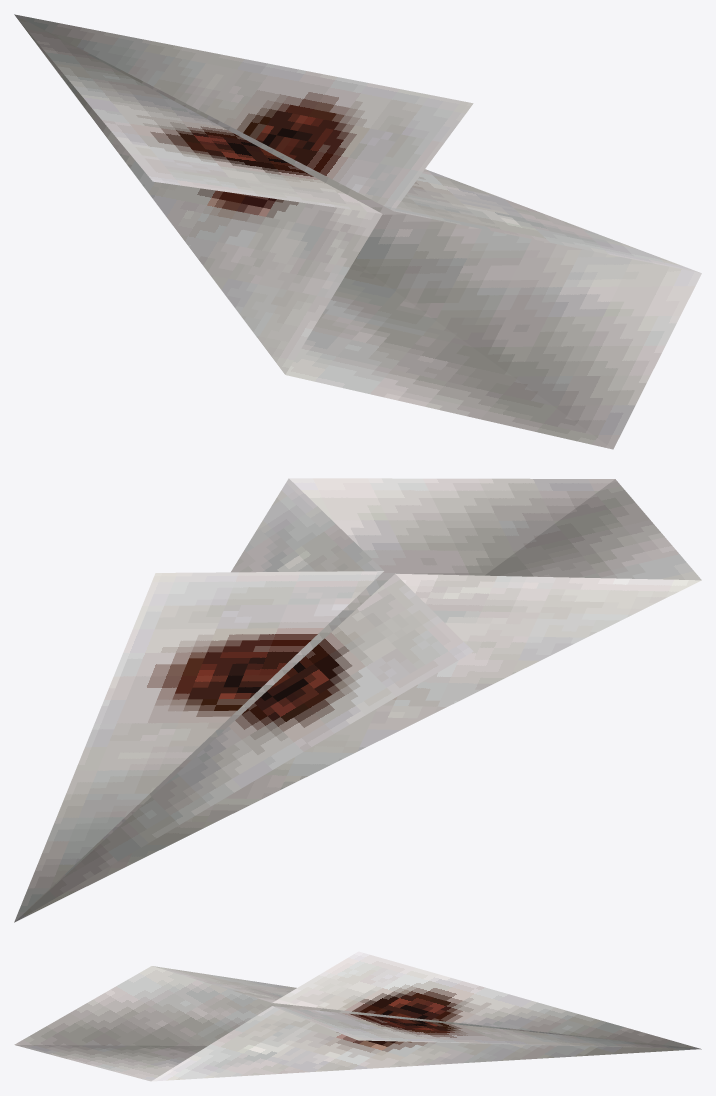
The model's file is stst150.dae.
3 views of the same model, one above another, from view 1: azimuth 30°, elevation 25°; view 2: azimuth 150°, elevation 25°; view 3: azimuth 270°, elevation 25° (orthographic). The views are drawn at different scales.
Visible parts, largest first — view 1: note; view 2: note; view 3: note.
Boxes of the visible parts, left/top/right/bottom form: note: left=14, top=14, right=701, bottom=449; note: left=14, top=478, right=701, bottom=922; note: left=14, top=951, right=701, bottom=1081.
Bounding box in the file's own units: 0.2055 × 0.515 × 0.0437.
Materials: 1 (1 with a texture image).
